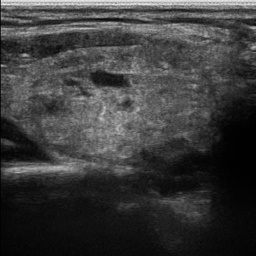mass: (29, 47, 215, 159)
